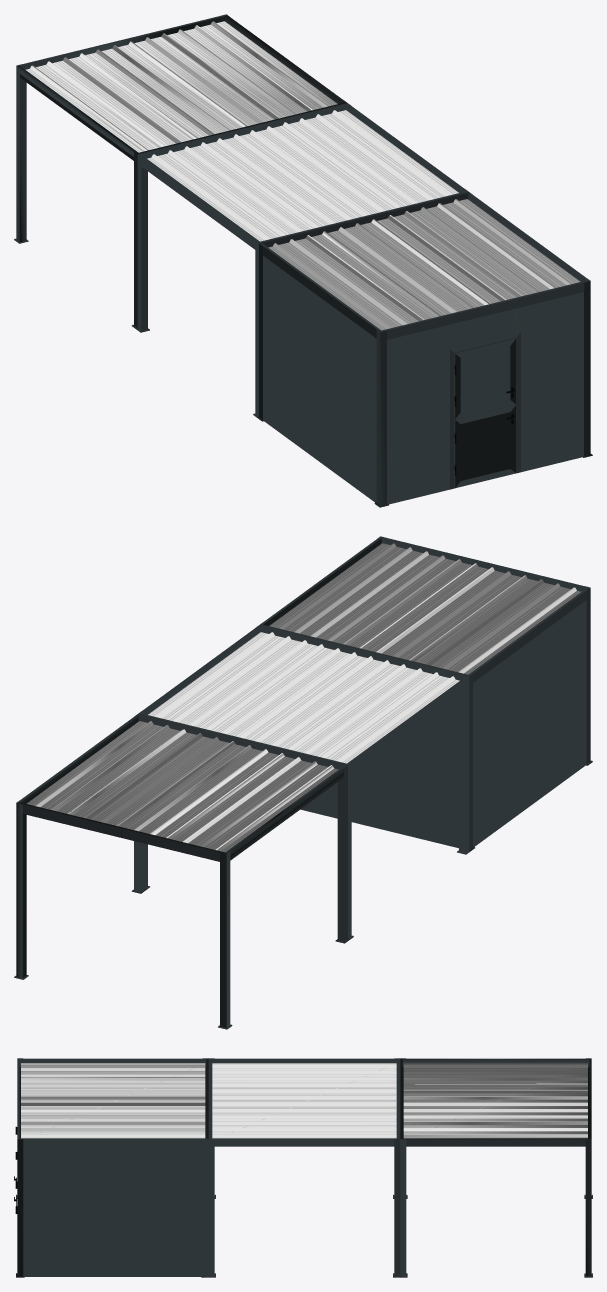
Rendered from 13444_carport6x3abri3x3.fbx.
The picture shows the model from 3 angles, top to bottom: view 1: azimuth 30°, elevation 25°; view 2: azimuth 150°, elevation 25°; view 3: azimuth 270°, elevation 25°; orthographic projection. The views are drawn at different scales.
Parts seen in each view (by area): view 1: priximbattable_net_box_a_cheval_13444_module_carport_box_che, folhabaixo, folhacima, porta; view 2: priximbattable_net_box_a_cheval_13444_module_carport_box_che; view 3: priximbattable_net_box_a_cheval_13444_module_carport_box_che.
Boxes of the visible parts, bbox=[...] form: priximbattable_net_box_a_cheval_13444_module_carport_box_che: bbox=[14, 14, 592, 507]; folhabaixo: bbox=[454, 404, 515, 488]; folhacima: bbox=[454, 338, 515, 419]; porta: bbox=[450, 332, 520, 489]; priximbattable_net_box_a_cheval_13444_module_carport_box_che: bbox=[14, 536, 592, 1029]; priximbattable_net_box_a_cheval_13444_module_carport_box_che: bbox=[16, 1058, 592, 1277].
Size of the model in its own units: 324 by 254 by 968.
1 material, 1 textured.
